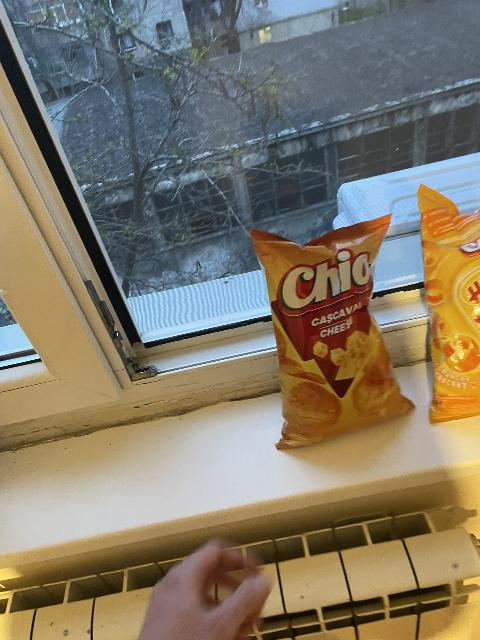Chio Cascaval 125g: (238, 212, 413, 452)
Chio Hula Hoops Cheese 70g: (412, 182, 480, 428)
